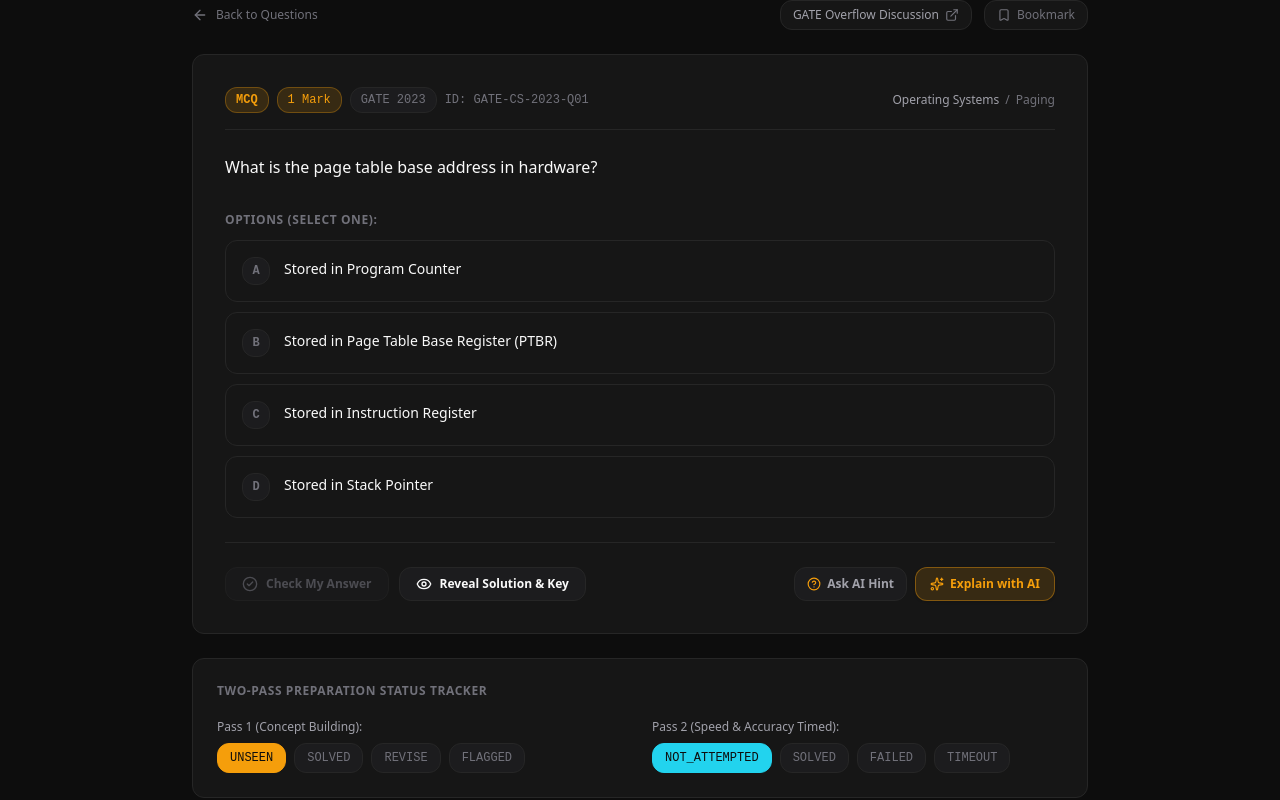
QuestionDetailPage › honest-judge PASS - renders concept chips in solution panel when revealed and clicking chip opens concept lesson dialog (PC-3)
This screenshot has width=1280, height=800.
# Reveal solution
Click the button "Reveal Solution & Key" at (492, 584), box [399, 567, 586, 601]
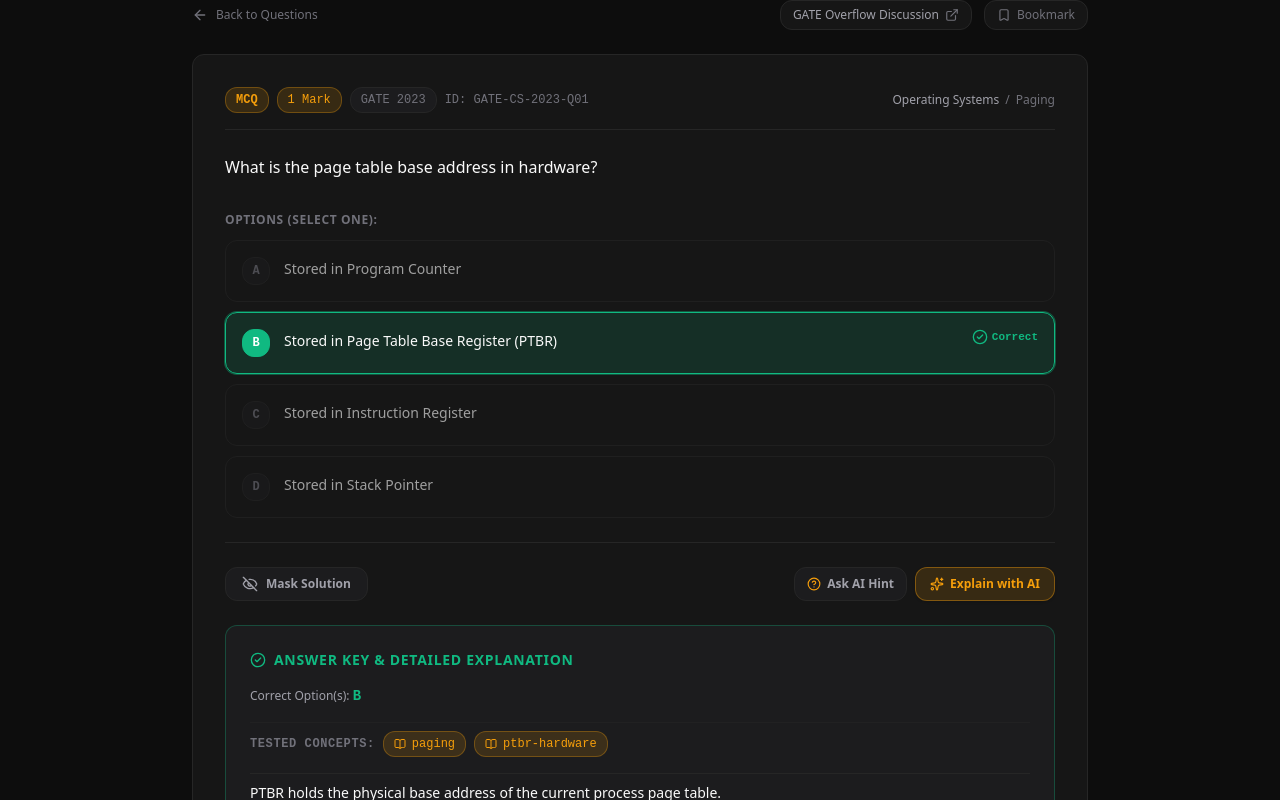
Expected: the element with test id "solution-concept-chips" is shown, [250, 722, 1030, 757]
Expected: the button with test id "concept-chip-paging" is shown
Expected: the button with test id "concept-chip-ptbr-hardware" is shown, [474, 731, 608, 757]
# Clicking concept chip opens dialog
Click the button with test id "concept-chip-paging" at (424, 744), box [383, 731, 466, 757]
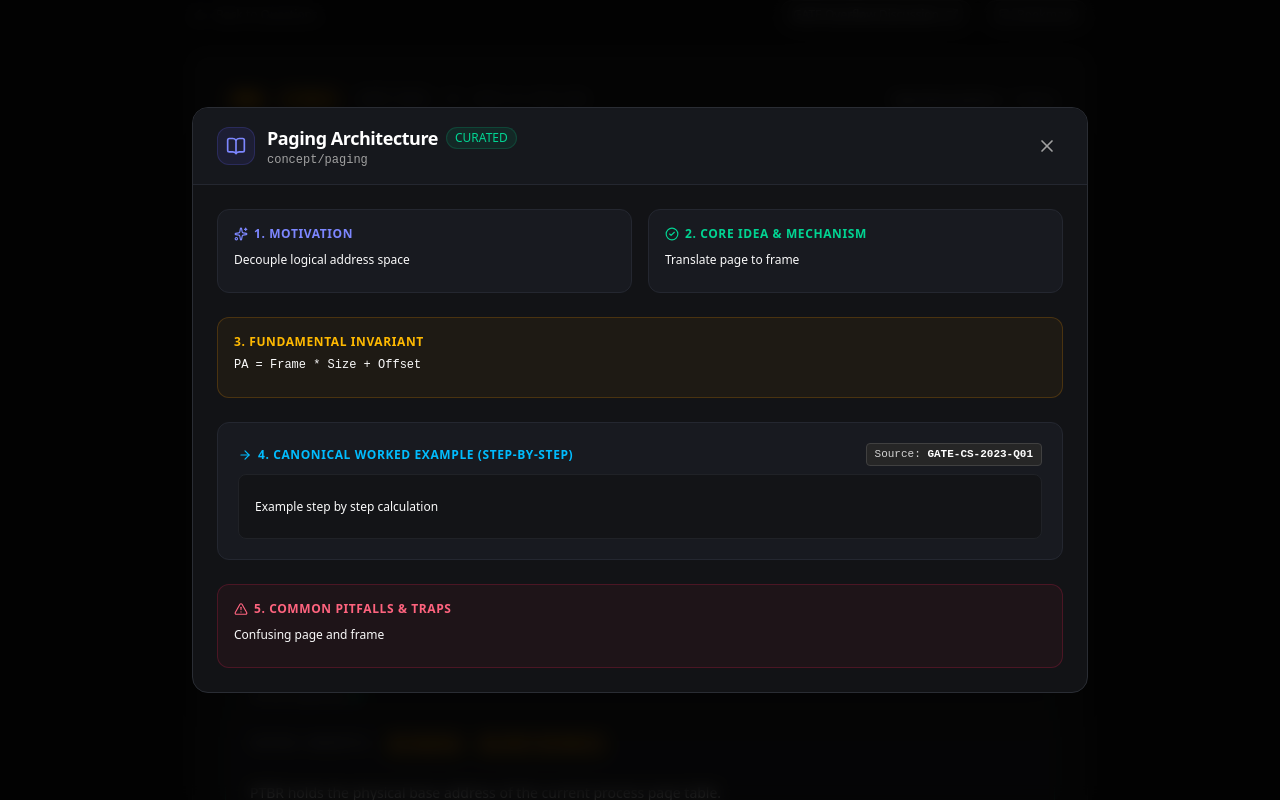
Expected: the element with test id "concept-unit-dialog" is shown
Expected: the heading "Paging Architecture" is shown, [267, 124, 438, 152]
